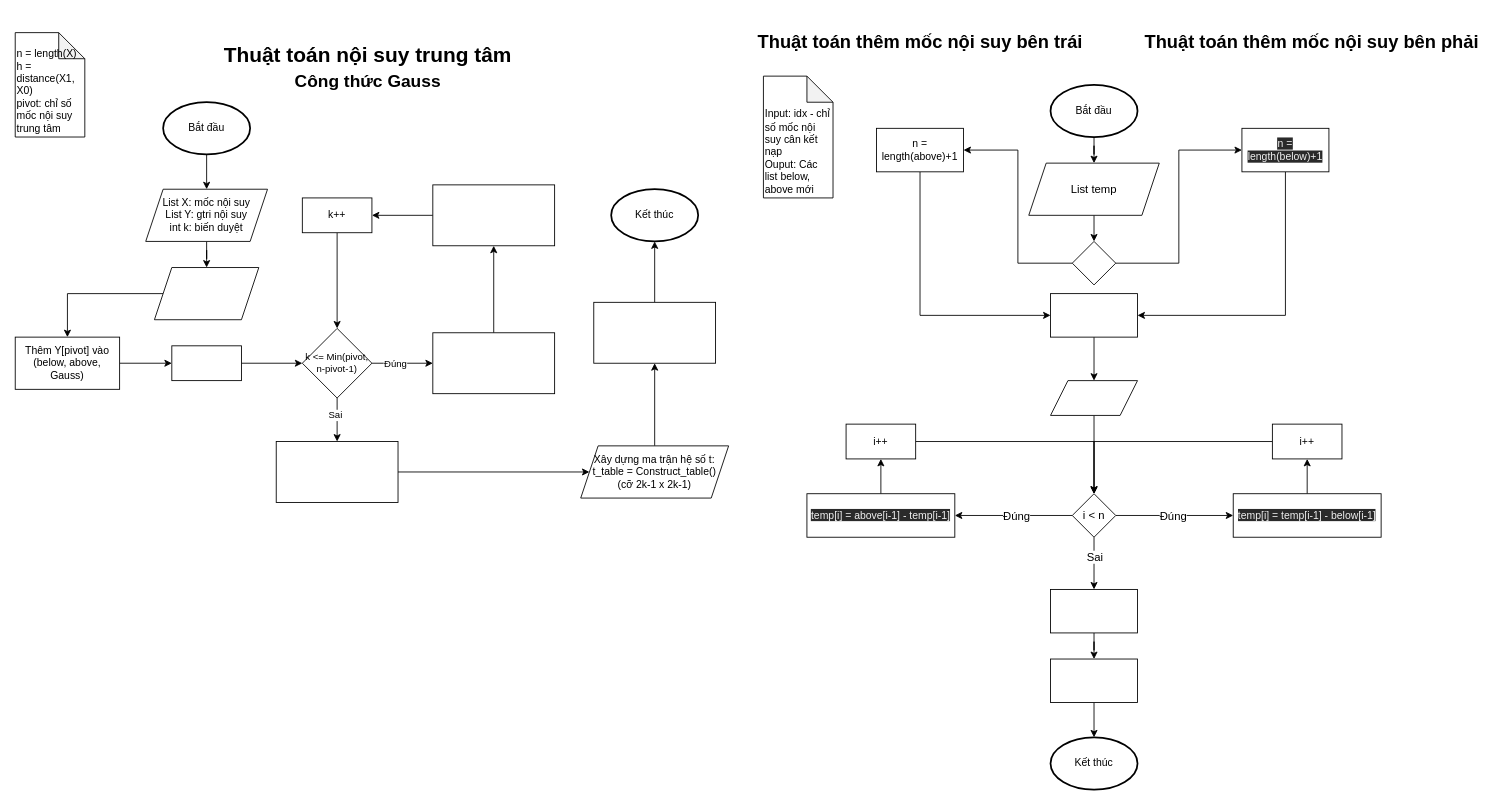
The diagram is 1501 pixels wide and 805 high, and some of its shapes have lost their labels. The shapes that lost their labels are listed below. From the top down, each one's box as (x1, y1, x2, y2) in pixels, then its label:
(432, 184, 555, 246): Thêm vào Gauss 2 phần tử cuối cùng của below
(154, 267, 259, 320): List below List above List Gauss
(593, 301, 716, 363): Đa thức nội suy cần tìm là tích của: Gauss x t_table
(1050, 293, 1138, 337): temp[0] = Y[idx]
(171, 345, 241, 381): k = 1
(432, 332, 555, 394): below = Add_below(); above = Add_above(); (Thêm mốc nội suy bên phải/ trái)
(1050, 380, 1138, 415): i = 1
(275, 441, 398, 502): Với mỗi phần tử trong Gauss, chia nó cho giai thừa của chỉ số của nó
(1050, 589, 1138, 633): Thêm temp[last] vào above, below
(1050, 658, 1138, 703): return temp
